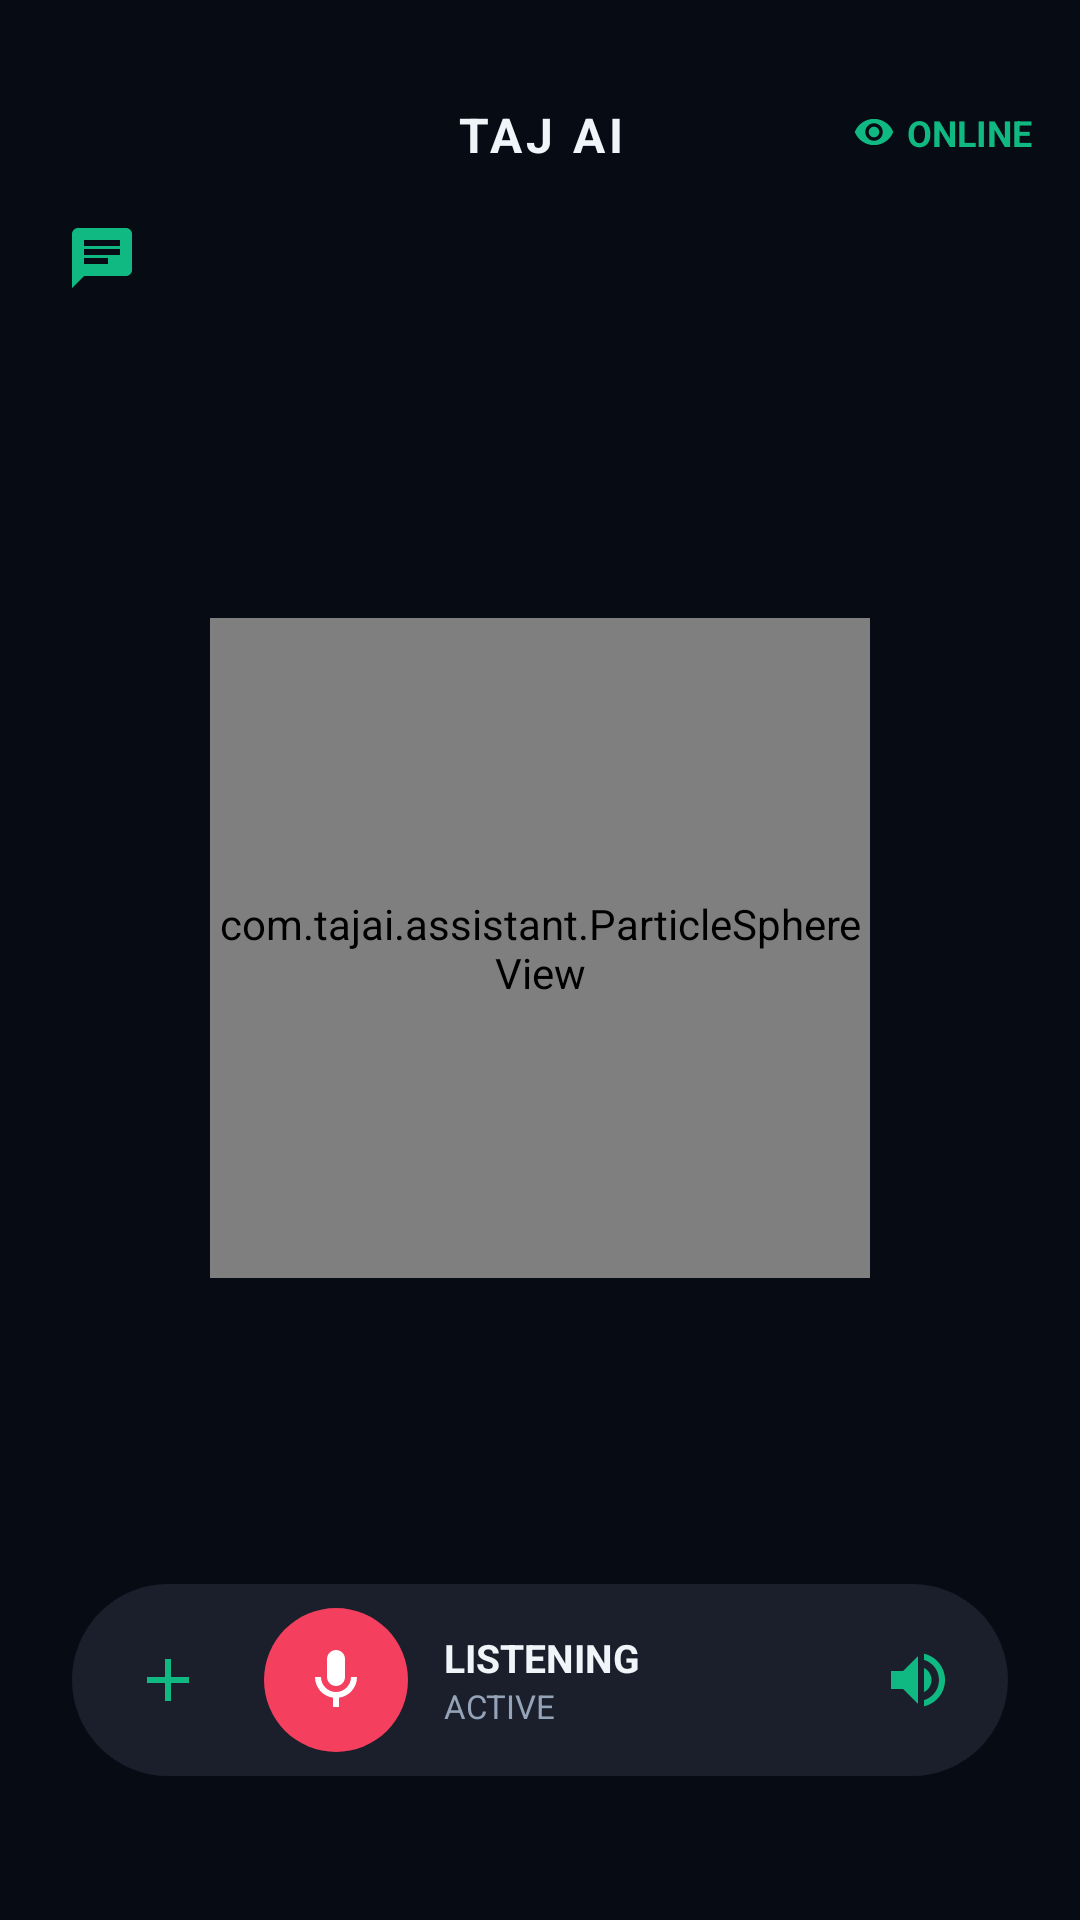

Screen size 1080 × 1920. Icon name, then its center in pixels as [x,y]:
chat: [102,258]
eye: [874,132]
mic: [336,1680]
plus: [168,1680]
speaker: [918,1680]
